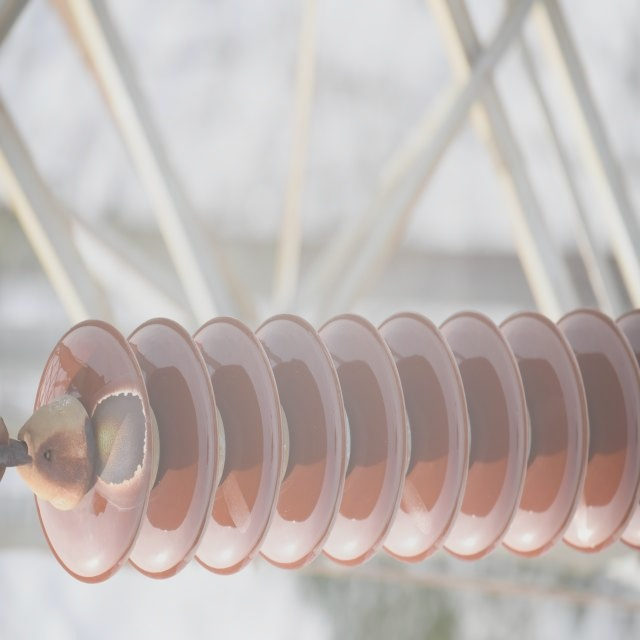insulator: (28, 304, 640, 588)
